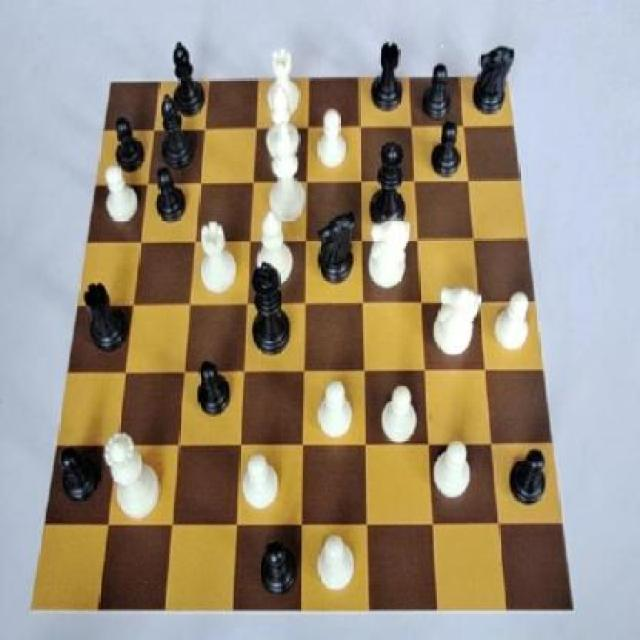bishop: (154, 88, 198, 177), (168, 37, 209, 121)
black-bishop: (242, 250, 296, 362)
black-king: (311, 203, 365, 299), (472, 37, 521, 124)
black-knight: (504, 449, 554, 522), (51, 437, 101, 508), (255, 532, 300, 603), (196, 352, 237, 425), (418, 54, 458, 128), (111, 108, 151, 178), (426, 119, 466, 184), (149, 166, 190, 226)
black-pawn: (368, 135, 413, 238)
black-queen: (80, 275, 129, 361), (364, 34, 404, 117)
black-rook: (256, 86, 306, 169), (252, 208, 297, 298)
white-bishop: (257, 124, 305, 226)
white-king: (364, 217, 418, 301)
white-knight: (239, 438, 286, 521), (314, 374, 361, 448), (429, 438, 474, 512), (380, 378, 425, 448), (491, 291, 533, 364), (312, 532, 358, 596), (101, 166, 142, 234), (314, 105, 354, 172)
white-pawn: (101, 423, 167, 525)
white-queen: (192, 218, 240, 301), (263, 44, 306, 124)
